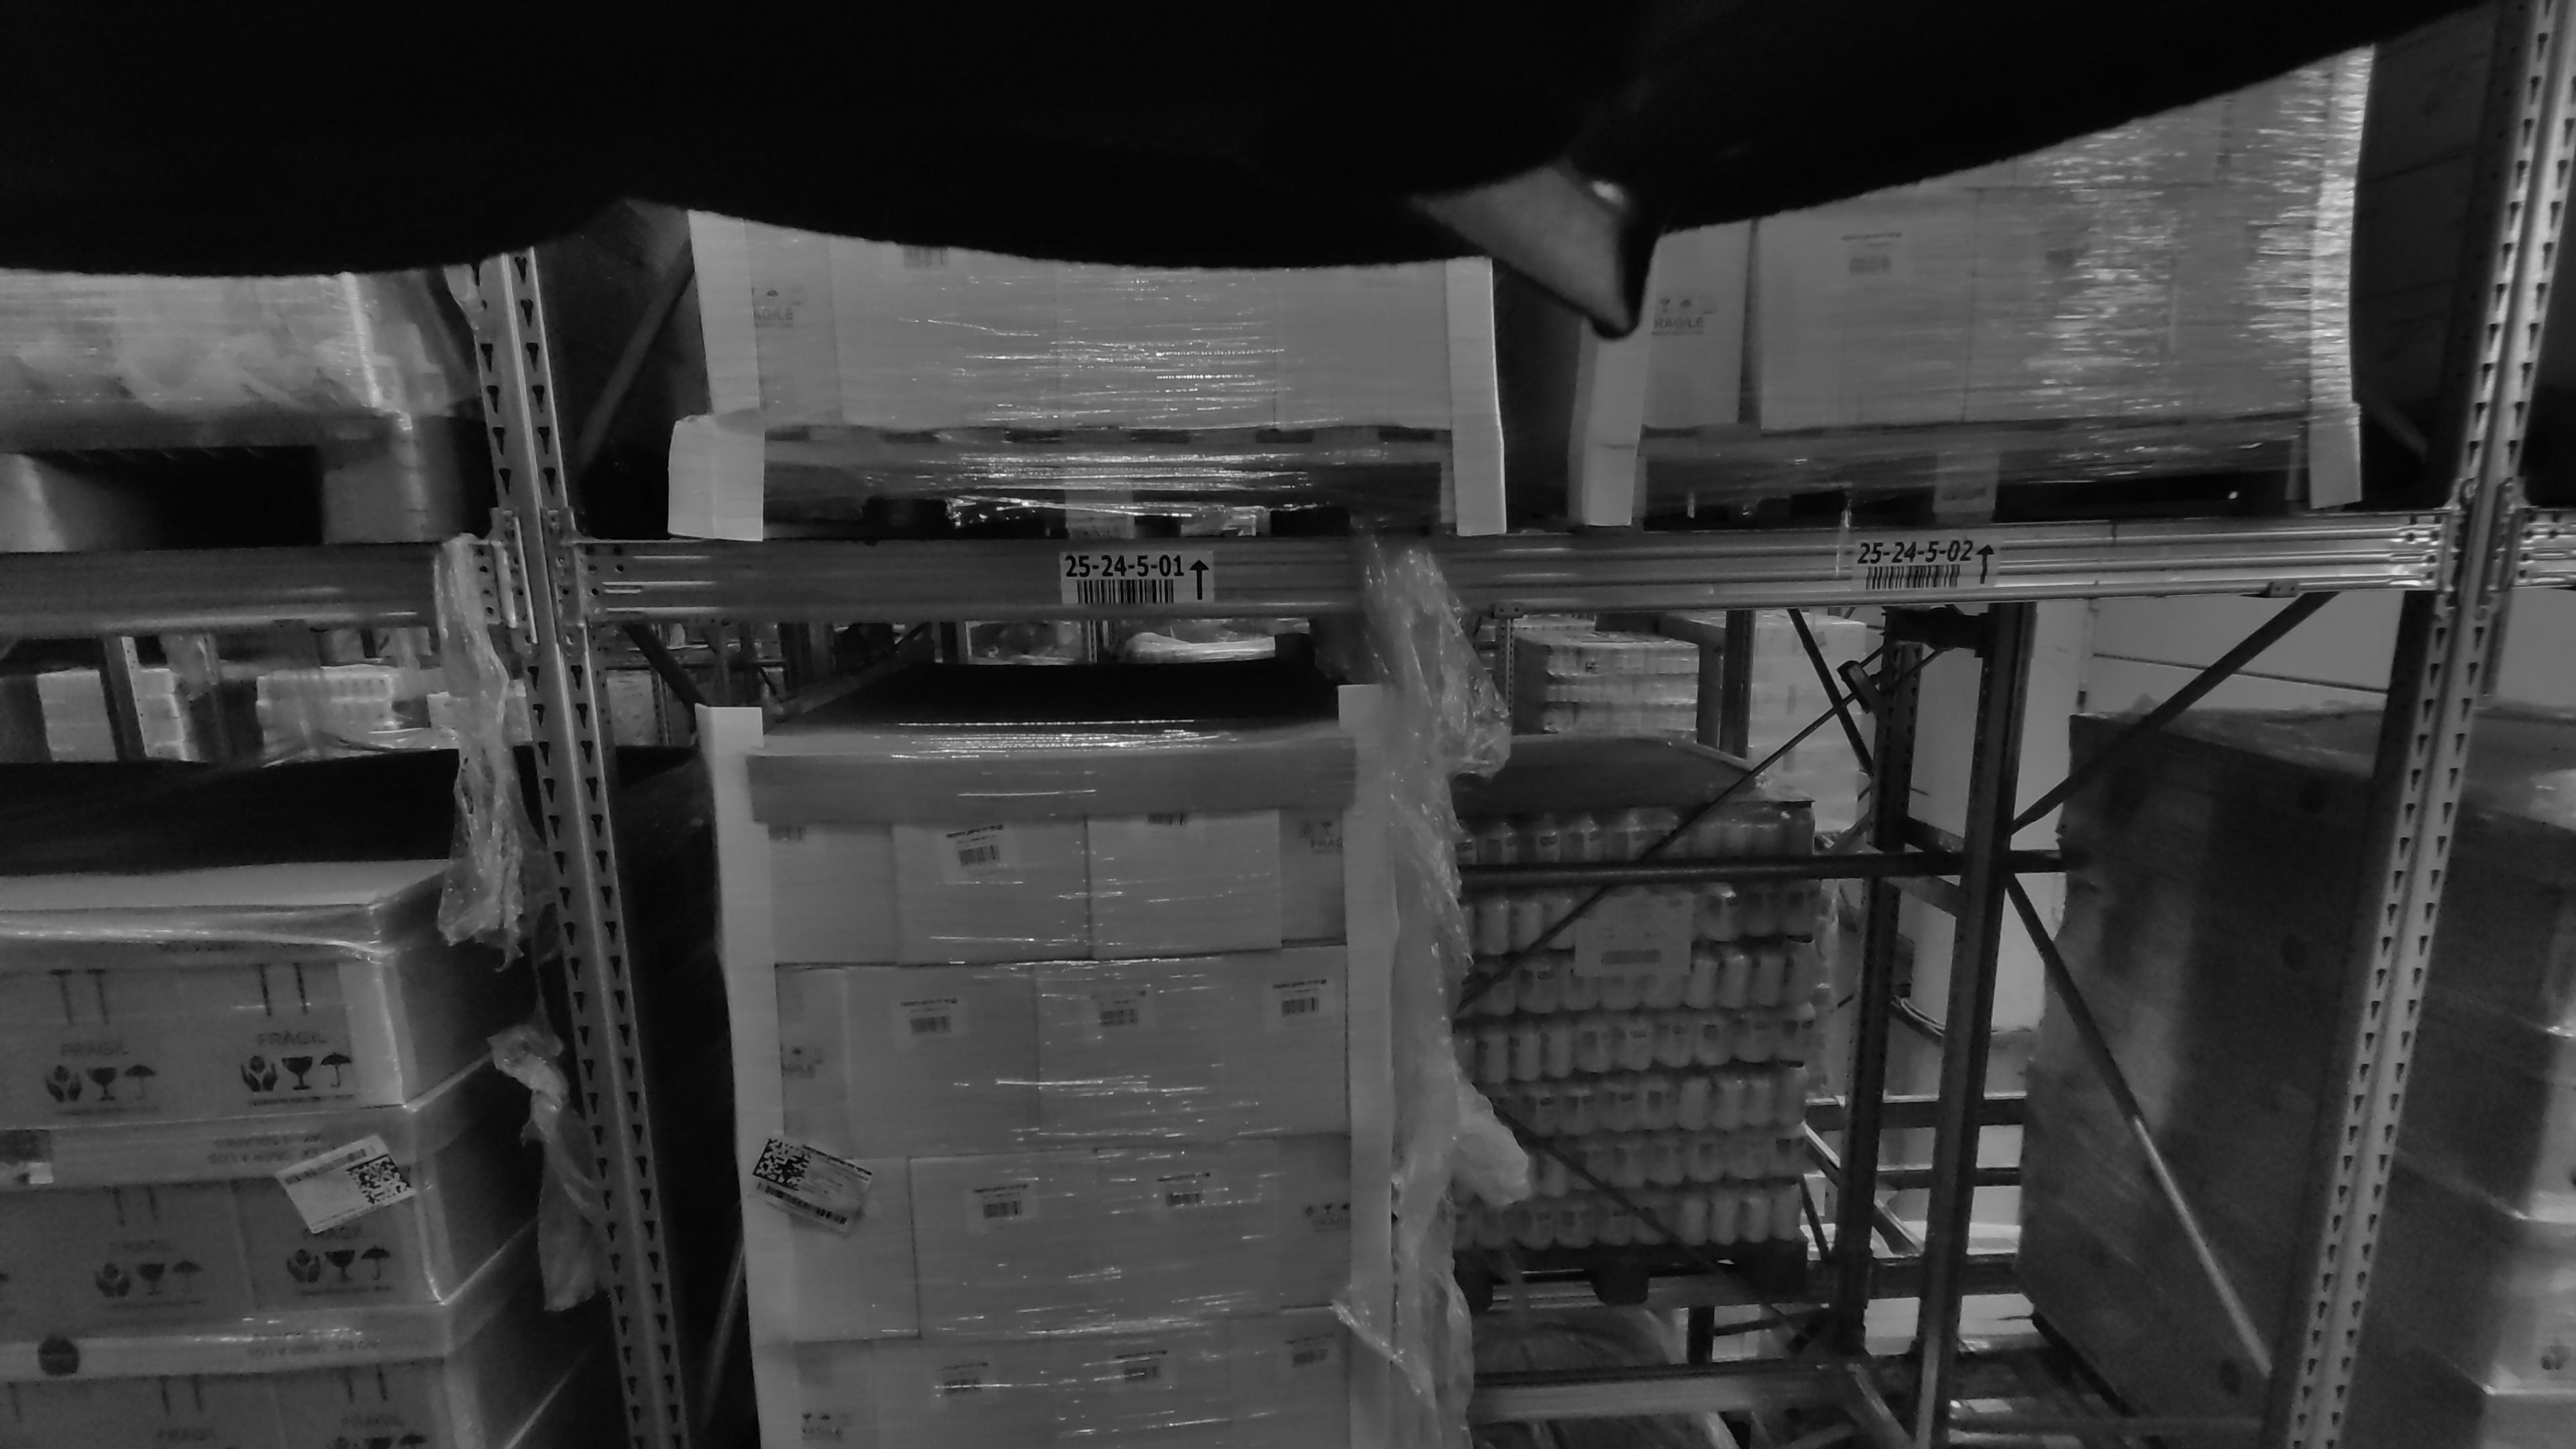empty-shelf: (1500, 630, 1937, 1449)
